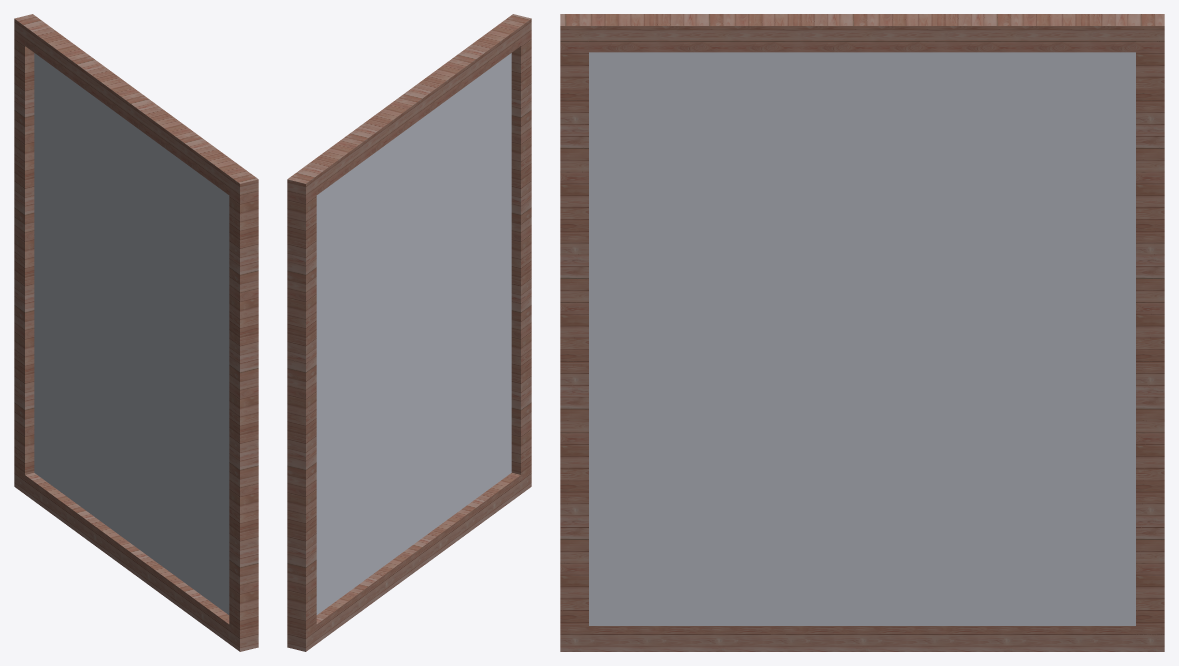
The model's file is SimplePaintingFrame.fbx.
3 views of the same model, side by side, from view 1: azimuth 30°, elevation 25°; view 2: azimuth 150°, elevation 25°; view 3: azimuth 270°, elevation 25° (orthographic). The views are drawn at different scales.
Visible parts, largest first — view 1: block (×5); view 2: block (×5); view 3: block (×5).
Part boxes in pixels (x1,y1,x2,y2): block (×5): (14, 14, 258, 651); block (×5): (287, 14, 531, 651); block (×5): (560, 14, 1164, 651).
Bounding box in the file's own units: 2 × 48 × 42.
Materials: 2 (1 with a texture image).
